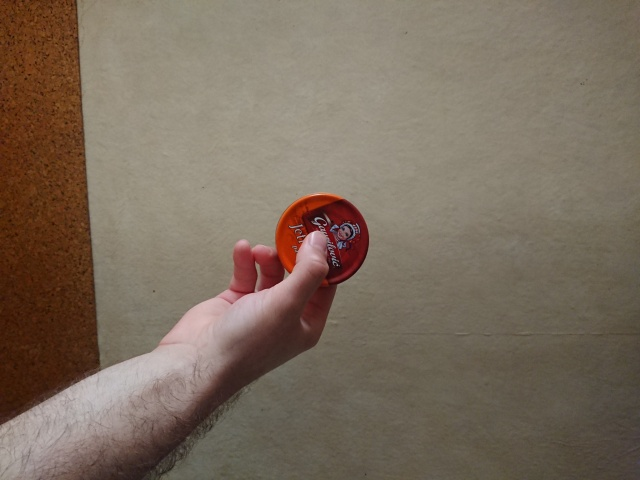Gavrilovic Pork Liver Pate 100g: (273, 191, 371, 287)
